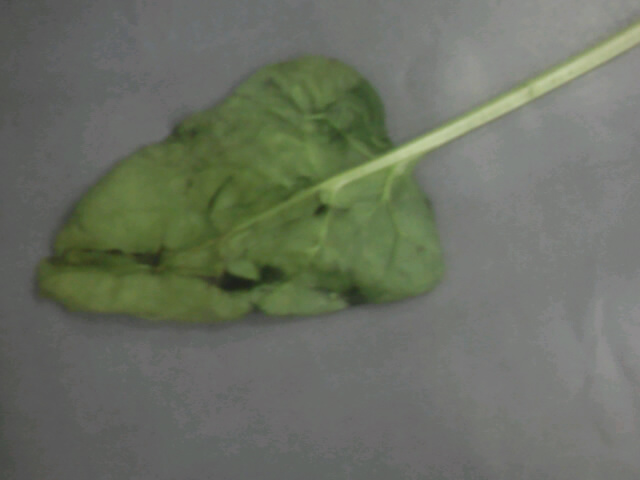yellow: (20, 51, 559, 328)
